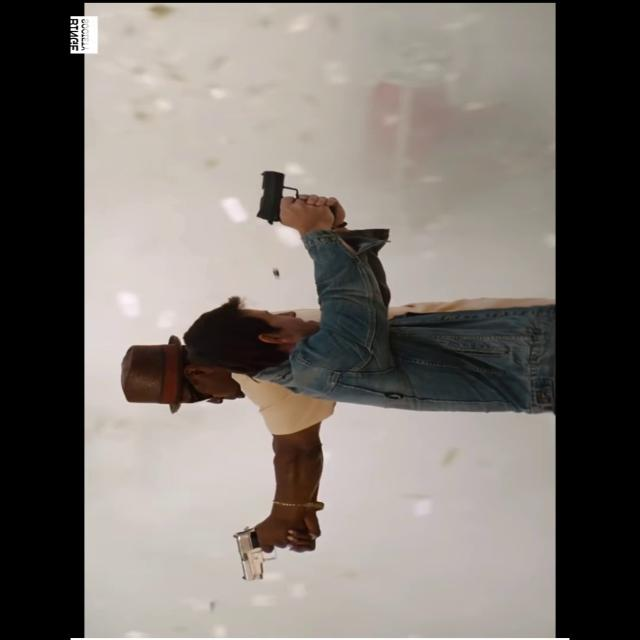weapons: (203, 508, 329, 586), (240, 162, 344, 232)
